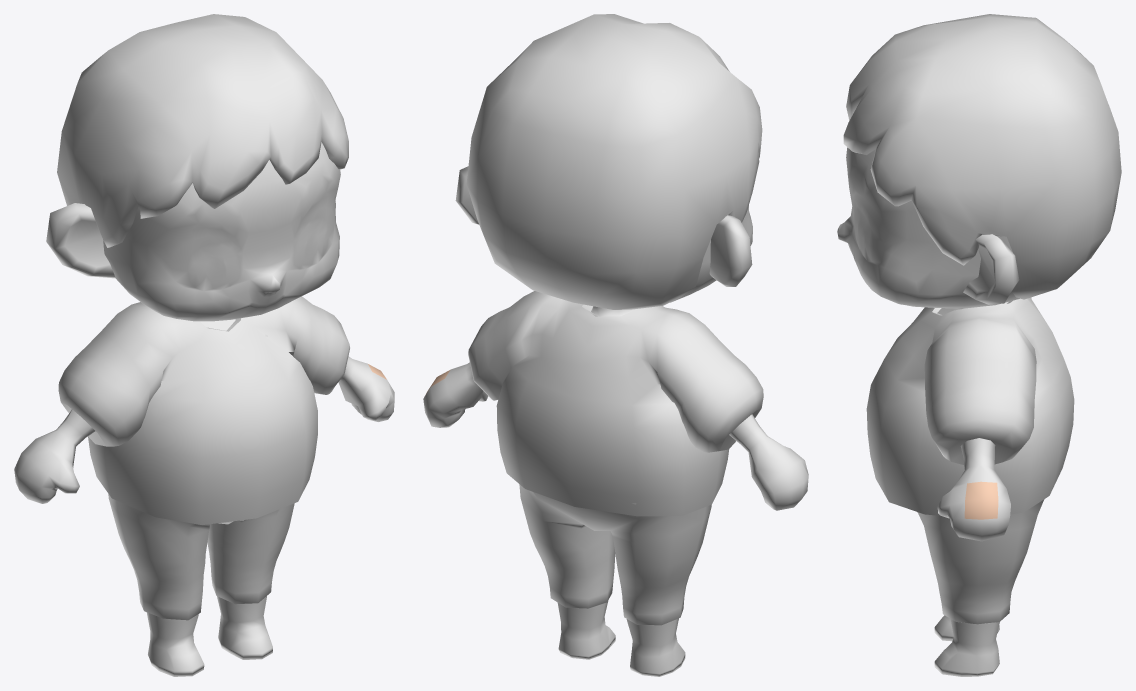
The model's file is human.fbx.
3 renders of one model, left to right at view 1: azimuth 30°, elevation 25°; view 2: azimuth 150°, elevation 25°; view 3: azimuth 270°, elevation 25°, orthographic.
Parts seen in each view (by area): view 1: Body_4.026; view 2: Body_4.026; view 3: Body_4.026.
Part boxes in pixels (left/top/right/bottom): Body_4.026: left=14, top=14, right=394, bottom=676; Body_4.026: left=423, top=14, right=808, bottom=676; Body_4.026: left=837, top=14, right=1121, bottom=676.
Bounding box in the file's own units: 107 × 169 × 70.54.
